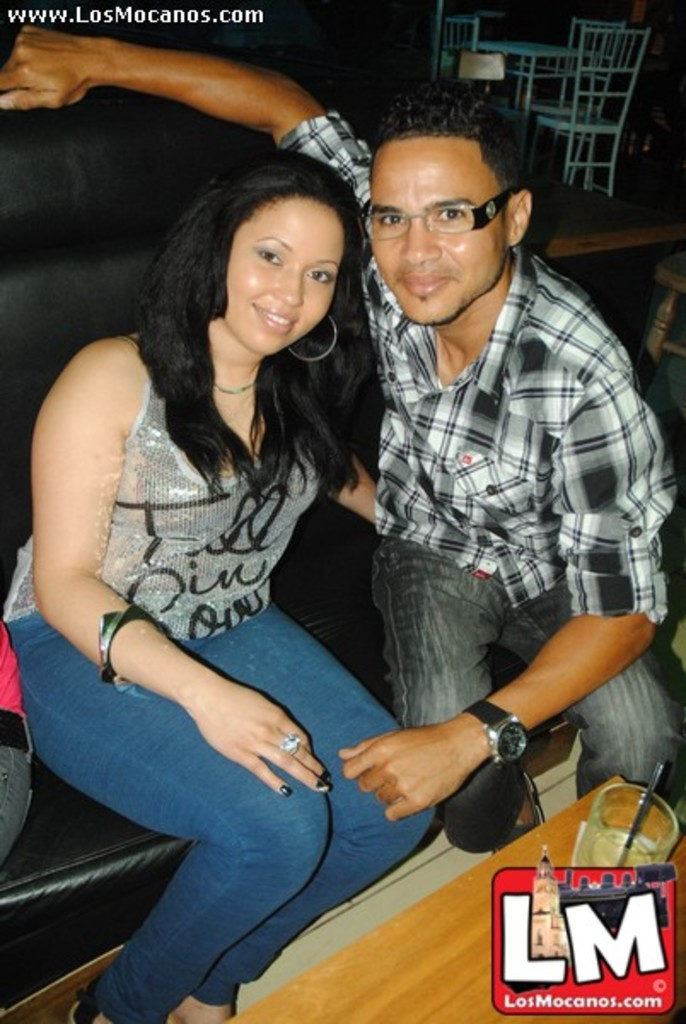Human-face: (374, 137, 510, 323), (225, 201, 346, 353)
